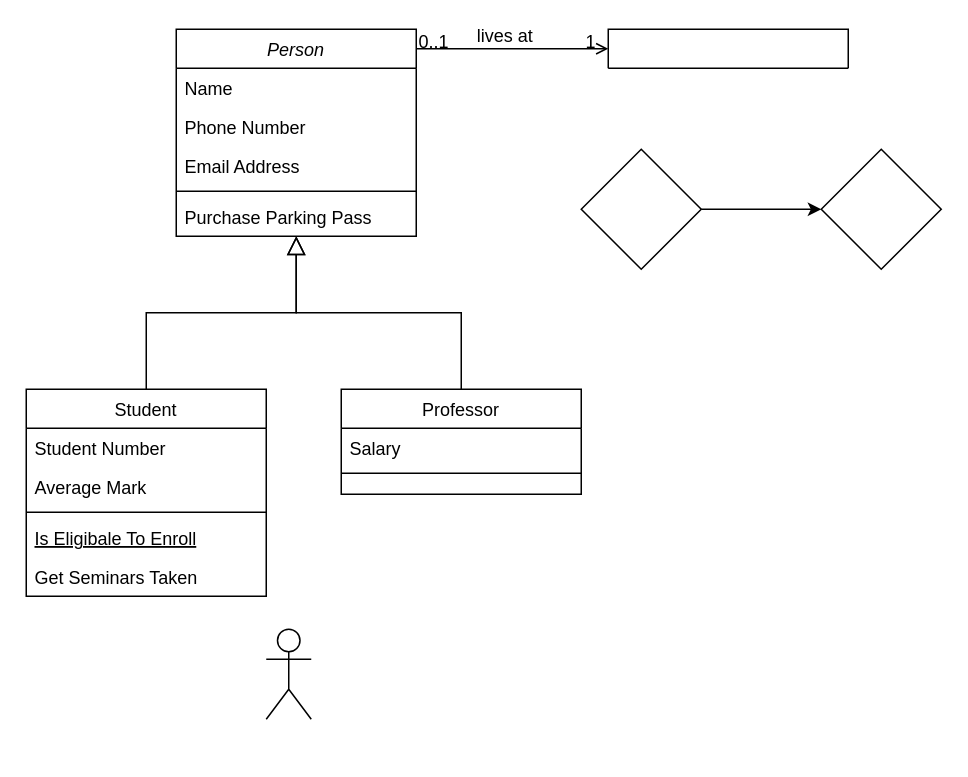
The diagram is 968 pixels wide and 777 high, and some of its shapes have lost their labels. The shapes that lost their labels are listed below. From the top down, each one's centre as x and y in pixels, then its label:
the point at 727,48: Address
the point at 288,673: Actor
